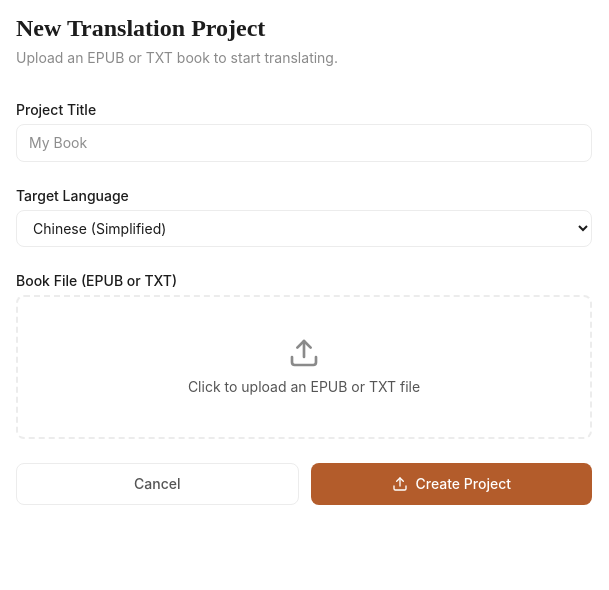
Test: NewProjectPage — book upload dropzone (issue #47, EPUB/TXT since Phase 1) › shows an error when the form is submitted without a file selected
The width and height of the screenshot is (609, 590).
Click the button "Create Project" at (451,484), box [310, 463, 592, 505]
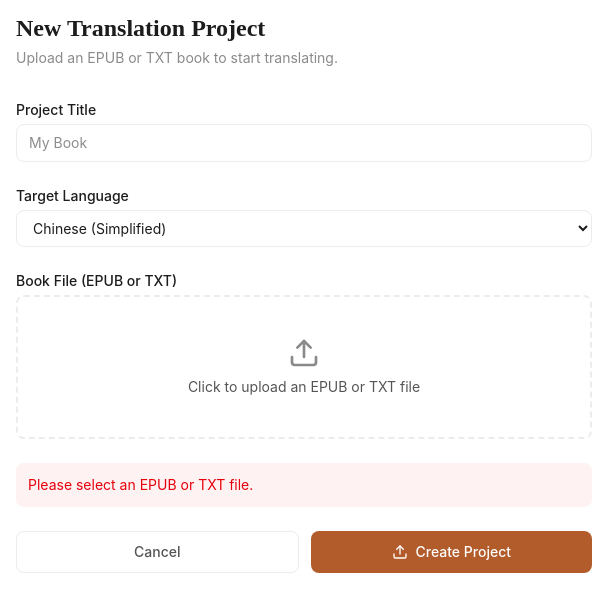
Expected: the text "Please select an EPUB or TXT file." is shown, [16, 463, 592, 507]
